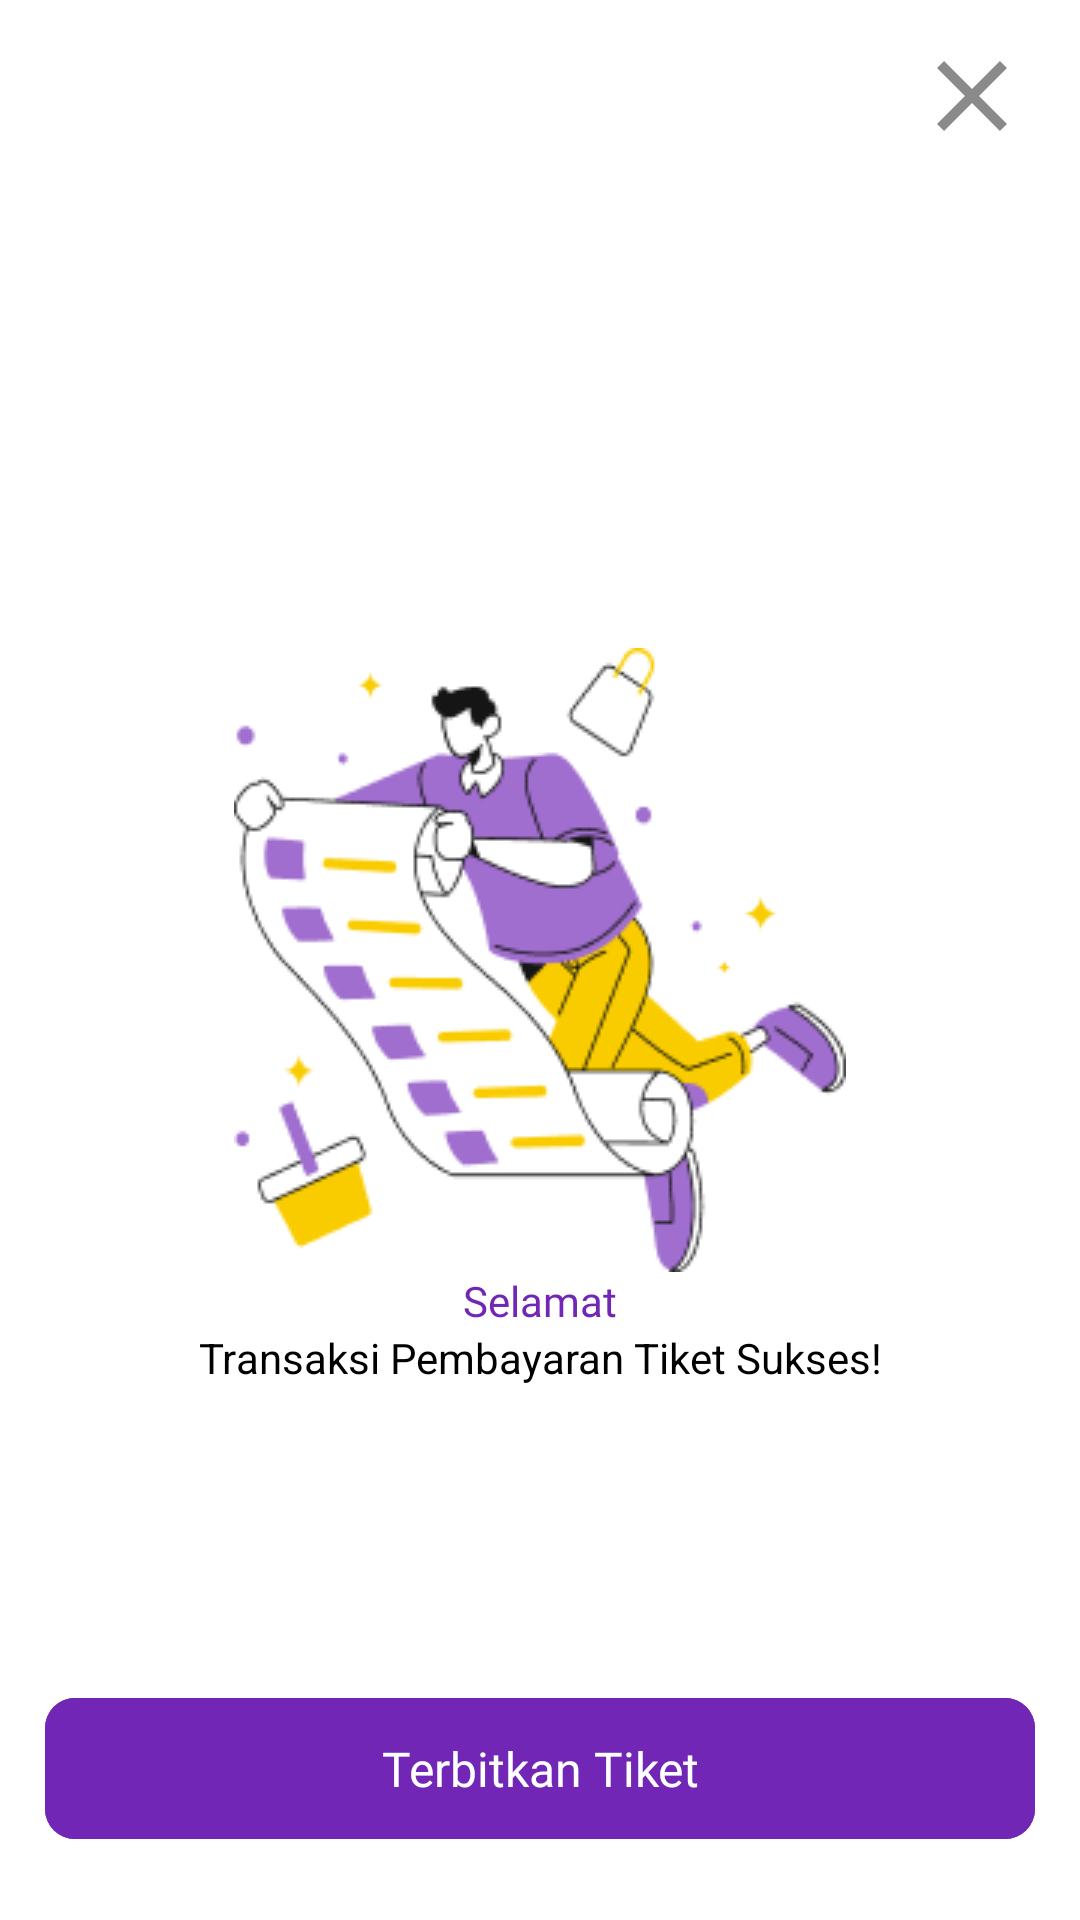

Screen size 1080px×1920px. Icon name, then its center in pixels as [x,y]:
close: [972,96]
